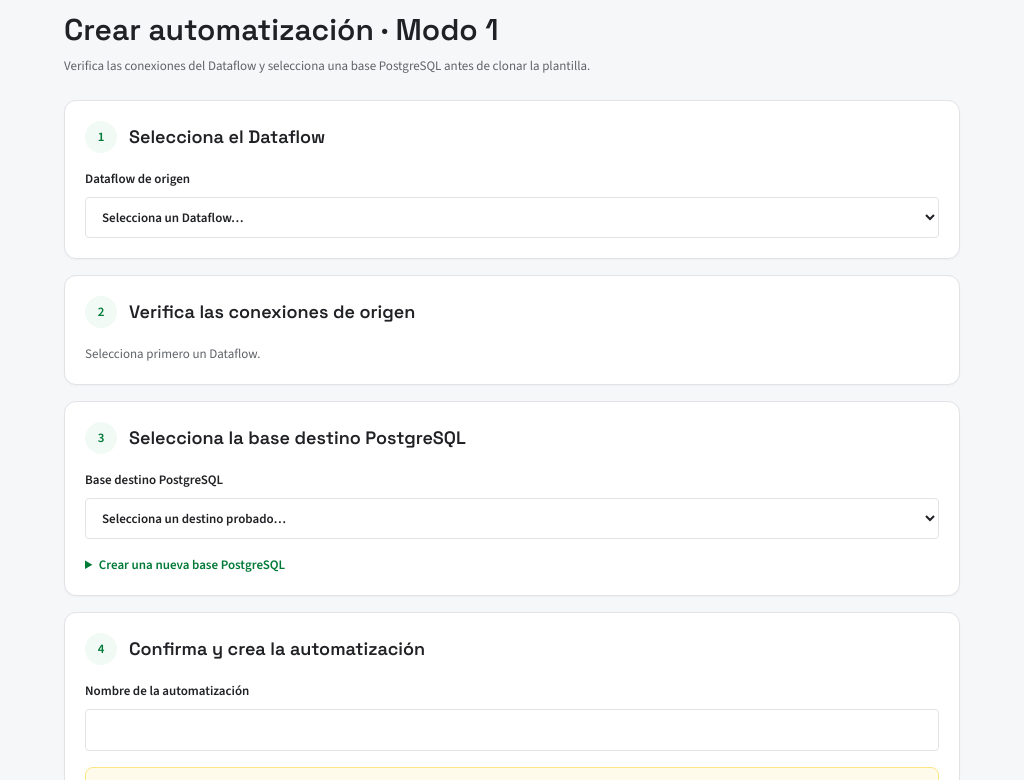
it: PaginaNuevaAutomatizacion › oculta la edición de la conexión a usuarios sin permiso
The image size is (1024, 780).
Select "Dataflow Ventas" in the dropdown labelled "Dataflow de origen": coordinates (512, 218) x1=85 y1=197 x2=939 y2=238
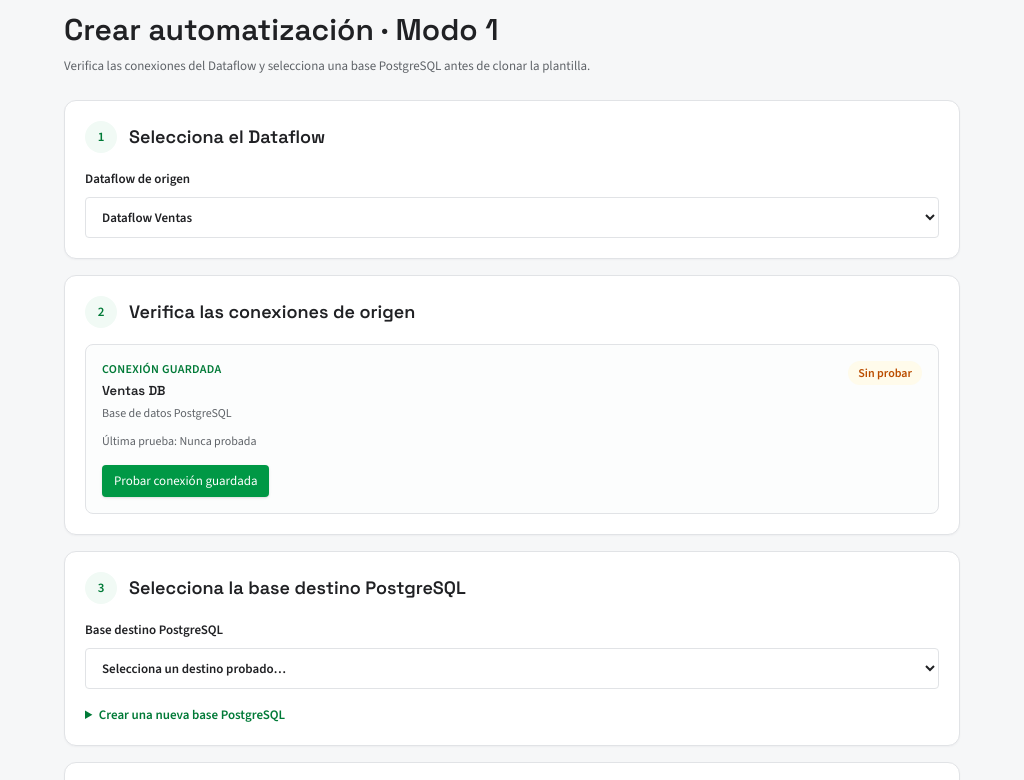
Now the button "Probar conexión guardada" is shown, box x1=102 y1=465 x2=270 y2=497
